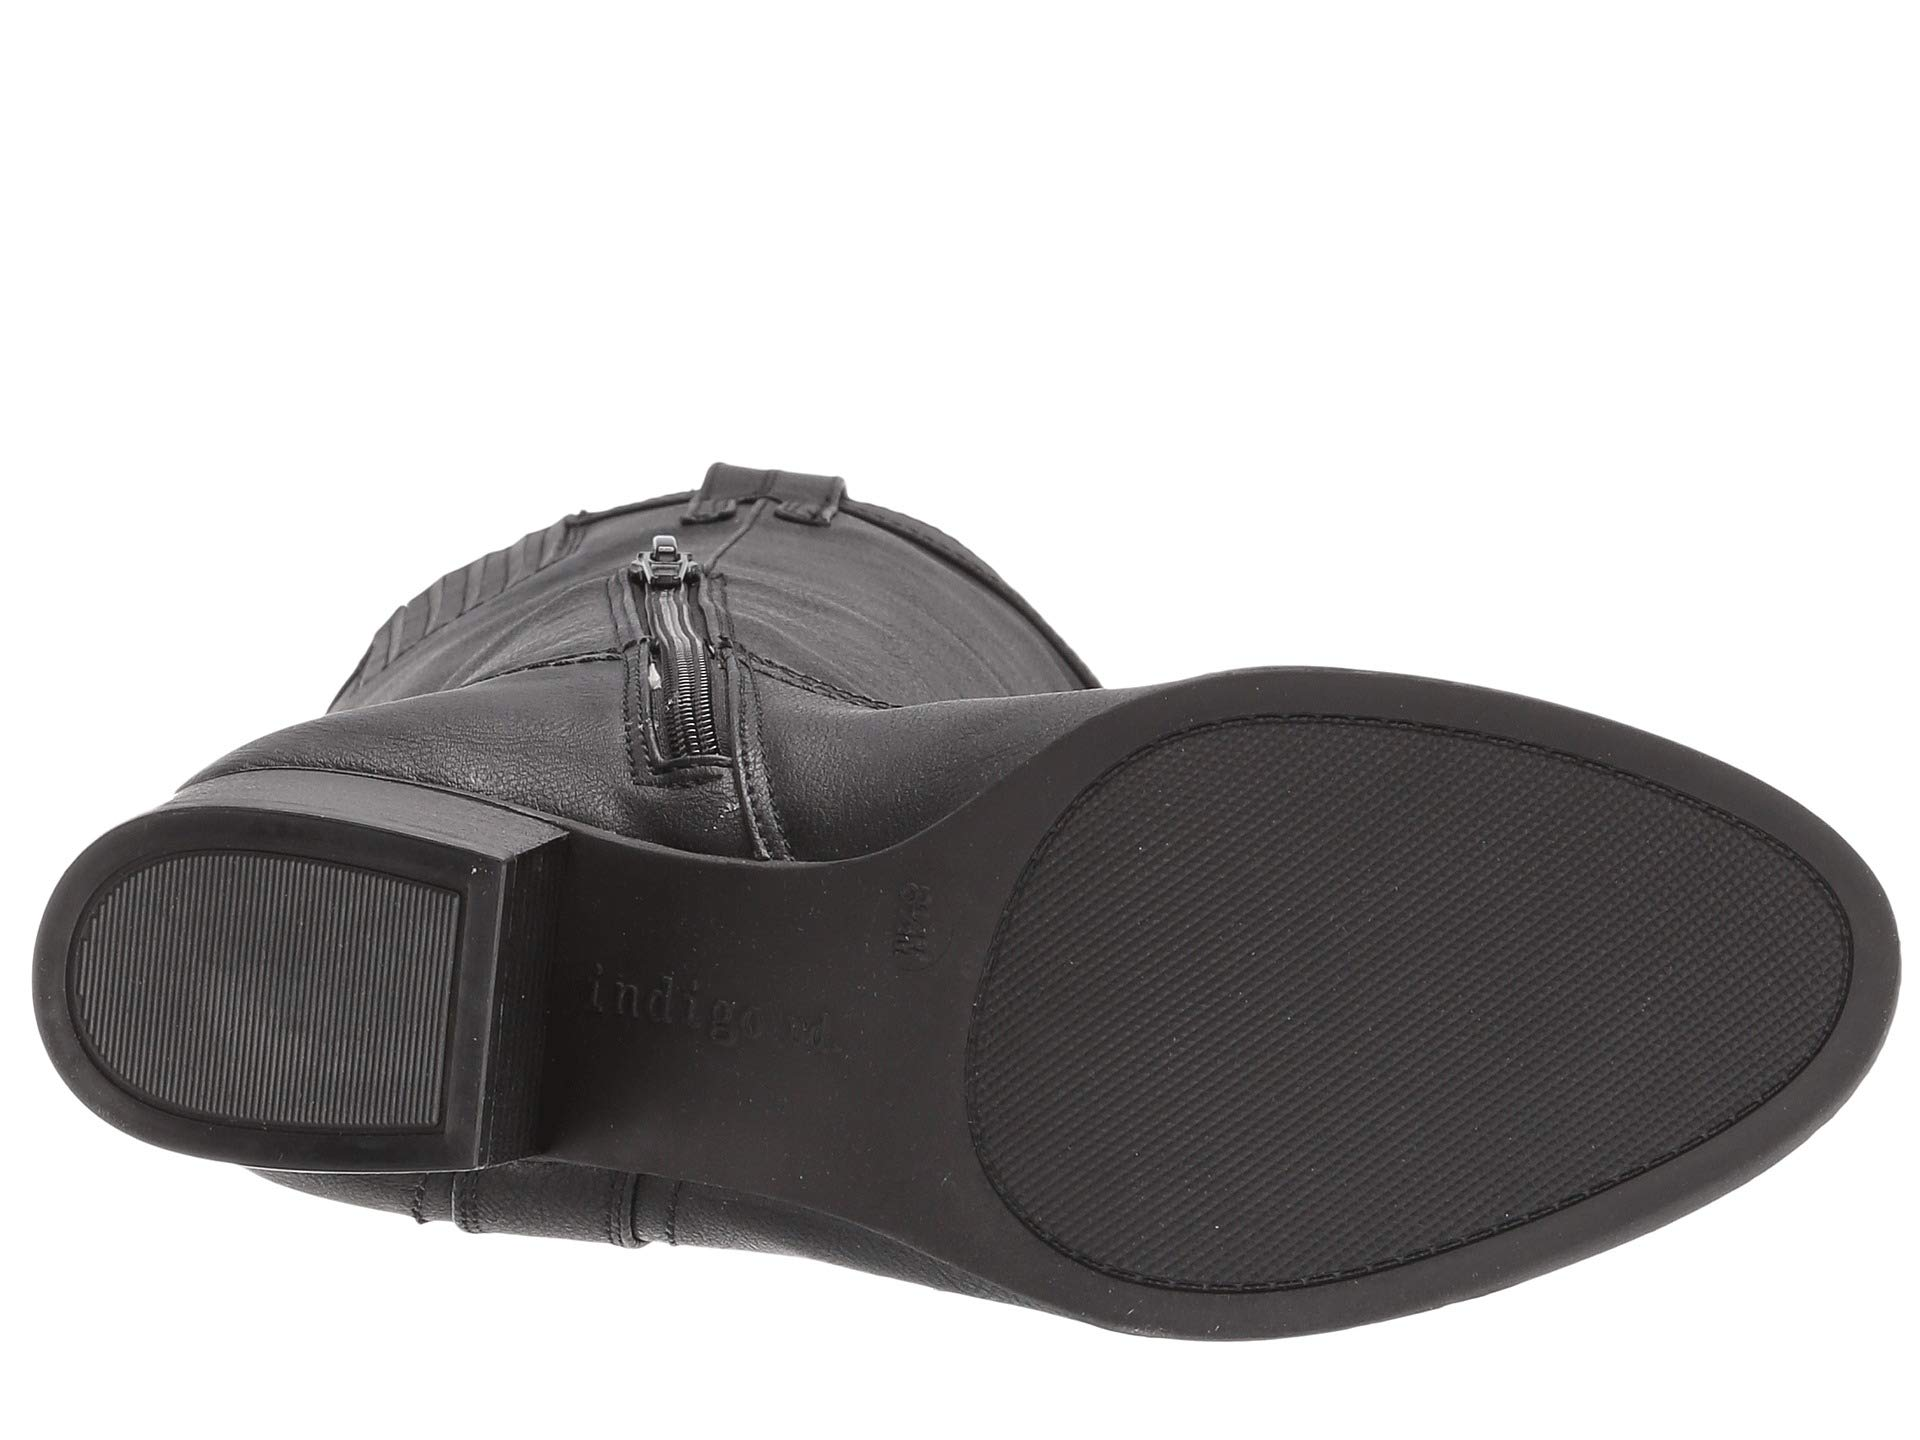line: (156, 905, 342, 1107)
